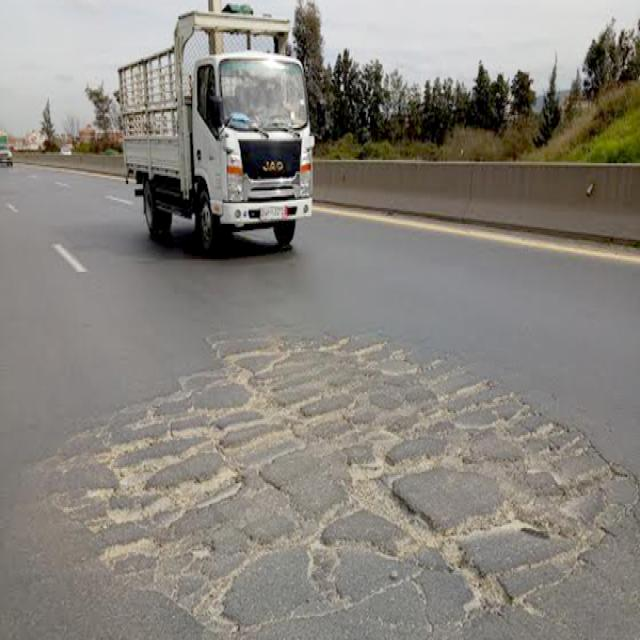p9: (38, 333, 640, 638)
